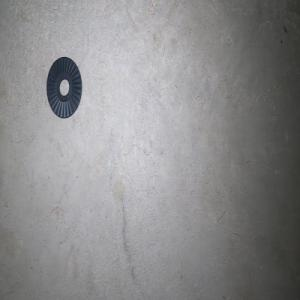Washer: (46, 56, 81, 118)
